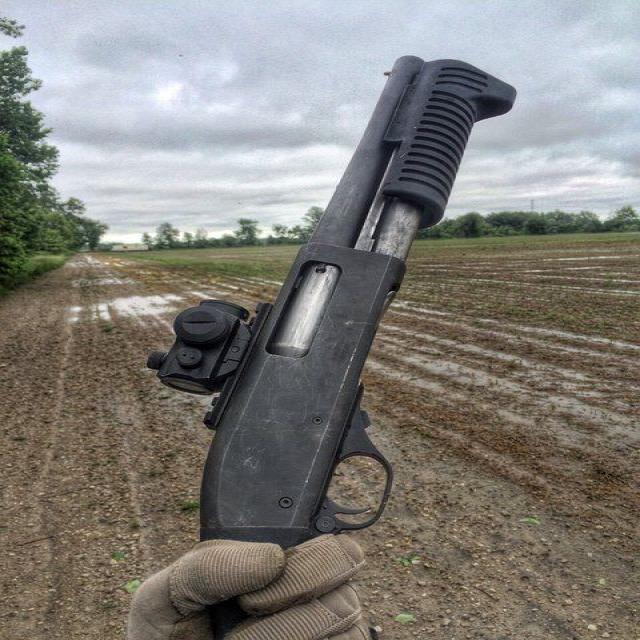shotgun: (122, 44, 565, 592)
